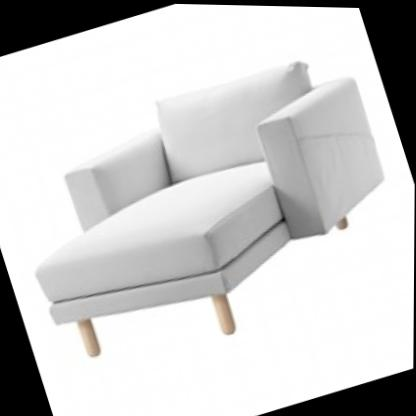Sofa: (0, 0, 416, 395)
